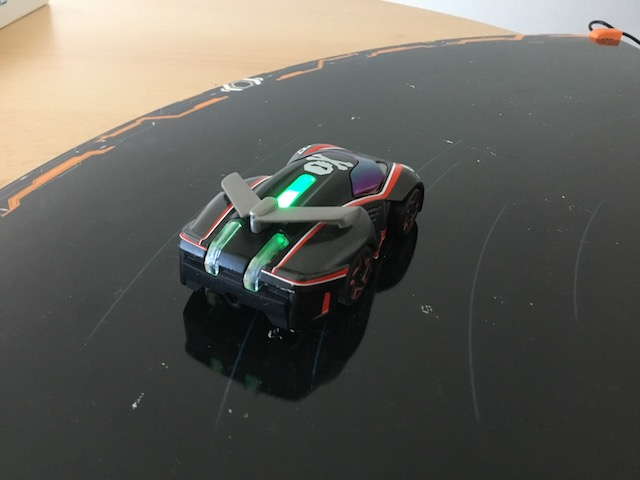car-red: (175, 140, 429, 340)
